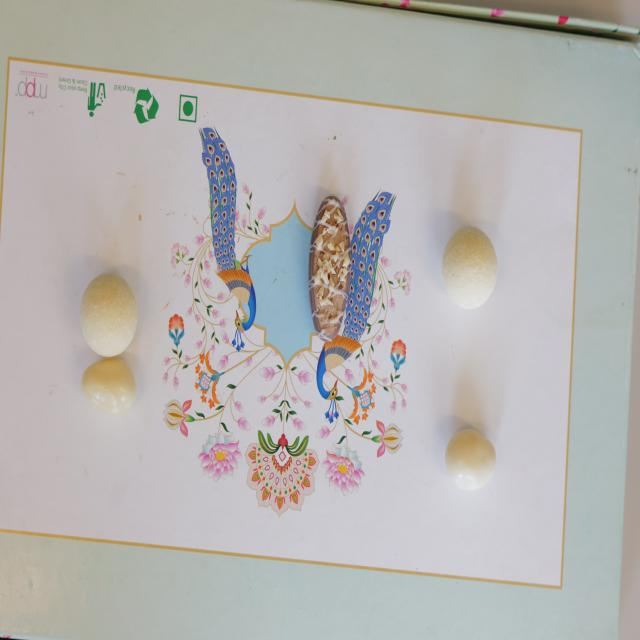Amandina: (306, 190, 351, 344)
Comtesse: (436, 224, 499, 315), (79, 277, 139, 356)
Jelly_White: (81, 357, 138, 425), (444, 426, 498, 496)
